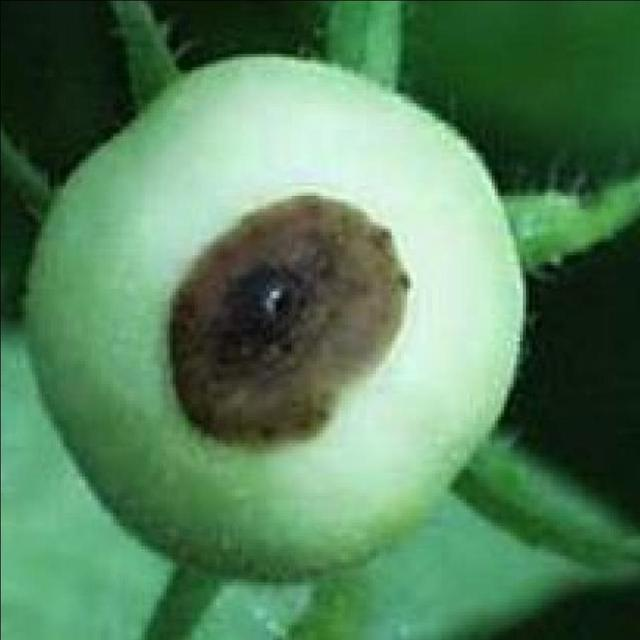Blossom End Rot Fruit: (110, 124, 276, 296)
